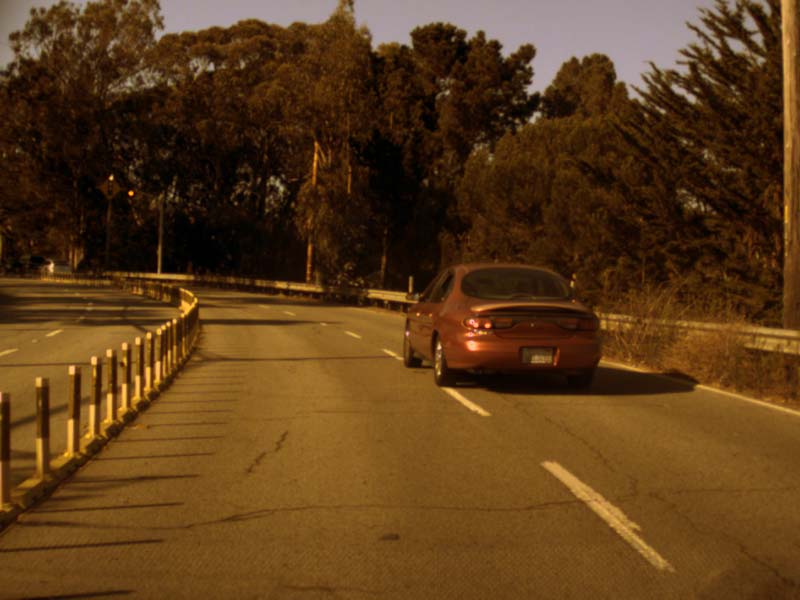Yellow: (126, 184, 134, 197)
